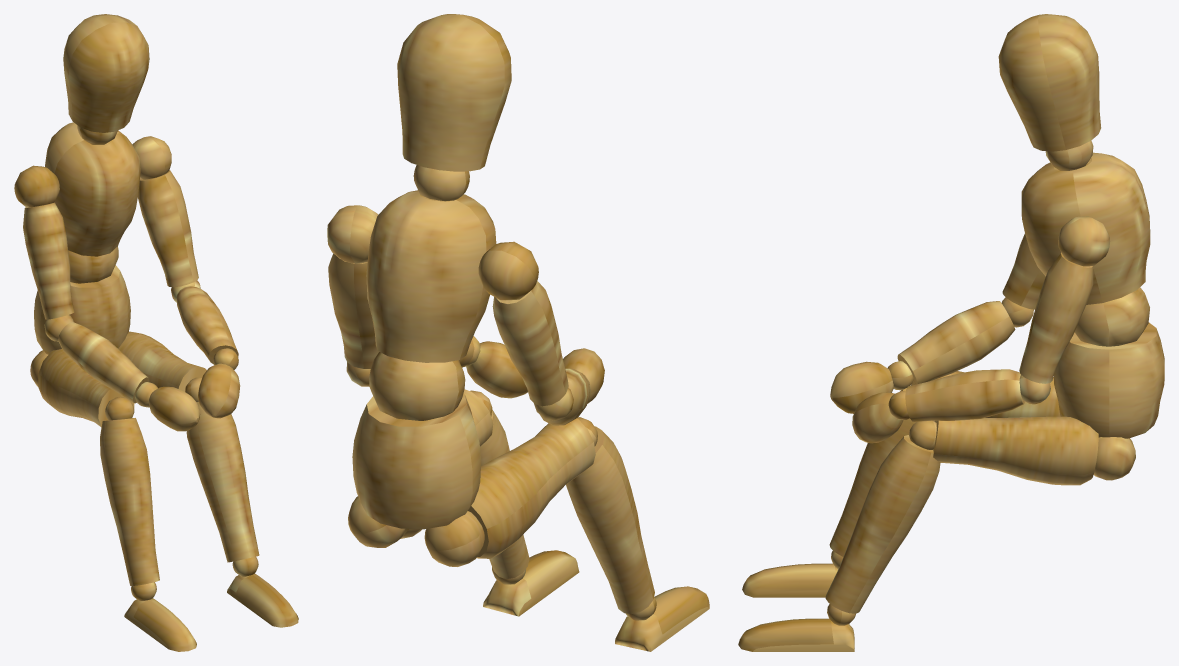
Rendered from Human_TV_01.obj.
3 renders of one model, left to right at view 1: azimuth 30°, elevation 25°; view 2: azimuth 150°, elevation 25°; view 3: azimuth 270°, elevation 25°, orthographic. The views are drawn at different scales.
Parts seen in each view (by area): view 1: chest, head, rShin, lShin, rShldr, lShldr, hip, rThigh, rForeArm, lForeArm, lThigh, lFoot (+3 smaller); view 2: chest, head, hip, rThigh, rShin, rShldr, lShldr, rFoot, lFoot, lThigh, lHand, lShin (+3 smaller); view 3: chest, head, lThigh, lShin, hip, lShldr, rForeArm, lForeArm, lFoot, rFoot, rHand, rShin (+3 smaller).
Boxes of the visible parts, left/top/right/bottom form: chest: left=45, top=122, right=140, bottom=283; head: left=63, top=14, right=149, bottom=144; rShin: left=100, top=397, right=159, bottom=585; lShin: left=185, top=377, right=259, bottom=562; rShldr: left=14, top=165, right=74, bottom=319; lShldr: left=132, top=136, right=198, bottom=287; hip: left=34, top=265, right=130, bottom=354; rThigh: left=30, top=349, right=134, bottom=427; rForeArm: left=44, top=315, right=149, bottom=403; lForeArm: left=171, top=280, right=238, bottom=364; lThigh: left=118, top=331, right=206, bottom=391; lFoot: left=227, top=556, right=298, bottom=627; chest: left=366, top=190, right=496, bottom=420; head: left=397, top=14, right=511, bottom=201; hip: left=352, top=394, right=481, bottom=529; rThigh: left=424, top=418, right=595, bottom=566; rShin: left=566, top=417, right=654, bottom=613; rShldr: left=478, top=241, right=568, bottom=406; lShldr: left=327, top=205, right=379, bottom=368; rFoot: left=615, top=586, right=709, bottom=651; lFoot: left=483, top=550, right=579, bottom=616; lThigh: left=348, top=389, right=493, bottom=547; lHand: left=464, top=336, right=527, bottom=398; lShin: left=470, top=390, right=529, bottom=578; chest: left=1021, top=152, right=1150, bottom=346; head: left=998, top=14, right=1101, bottom=170; lThigh: left=933, top=416, right=1135, bottom=485; lShin: left=825, top=420, right=940, bottom=613; hip: left=1054, top=322, right=1164, bottom=438; lShldr: left=1019, top=216, right=1110, bottom=383; rForeArm: left=897, top=297, right=1033, bottom=385; lForeArm: left=905, top=369, right=1050, bottom=421; lFoot: left=738, top=604, right=855, bottom=651; rFoot: left=742, top=551, right=843, bottom=597; rHand: left=830, top=361, right=913, bottom=413; rShin: left=829, top=384, right=934, bottom=556.
Bounding box in the file's own units: 0.1651 × 0.5112 × 0.3296.
2 materials, 2 textured.
